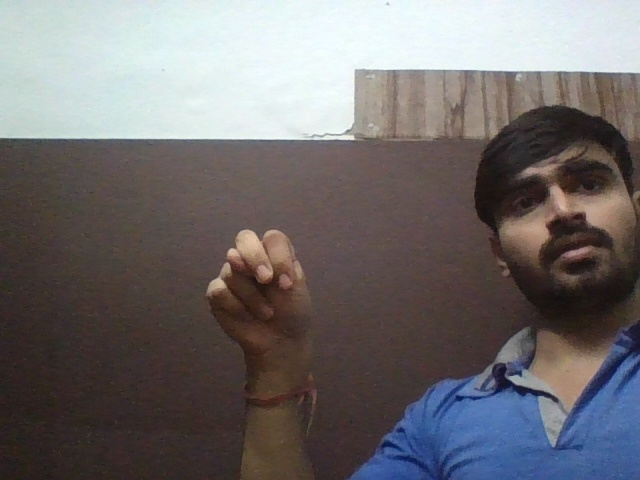M: (180, 218, 331, 365)
